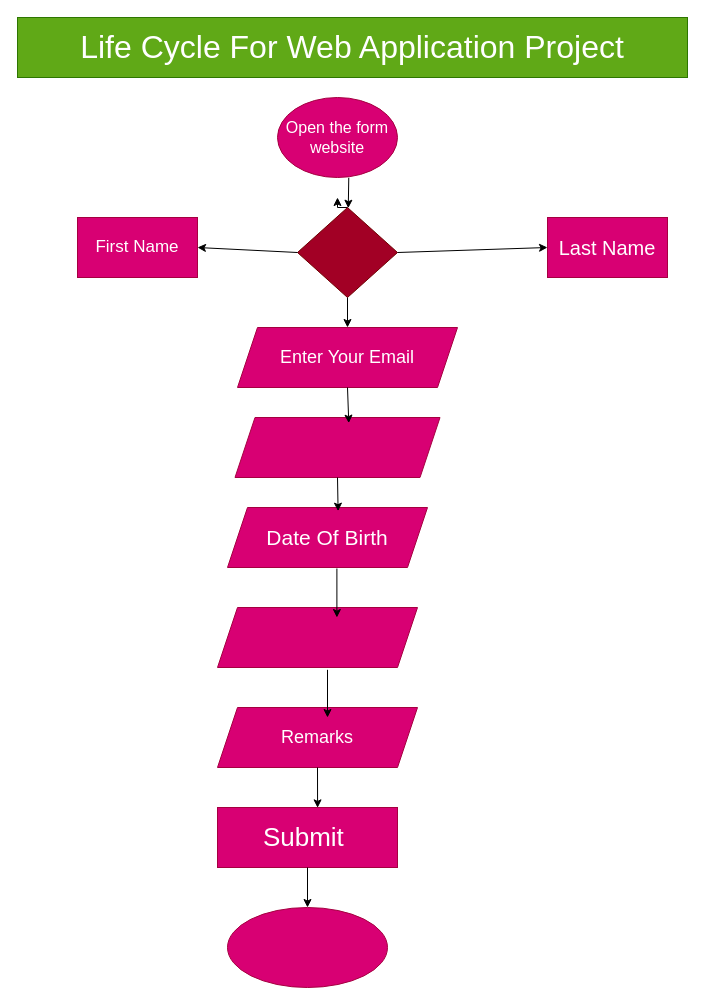
Image size: 705x1005. Some labels were removed from this diagram. Here are the shapes that lost their labels. From the top down, the centre of each, then its label:
point 347,252: Enter your name
point 337,447: Enter Your Password
point 317,637: Add Your Current Address
point 307,947: Close the WebSite Form
